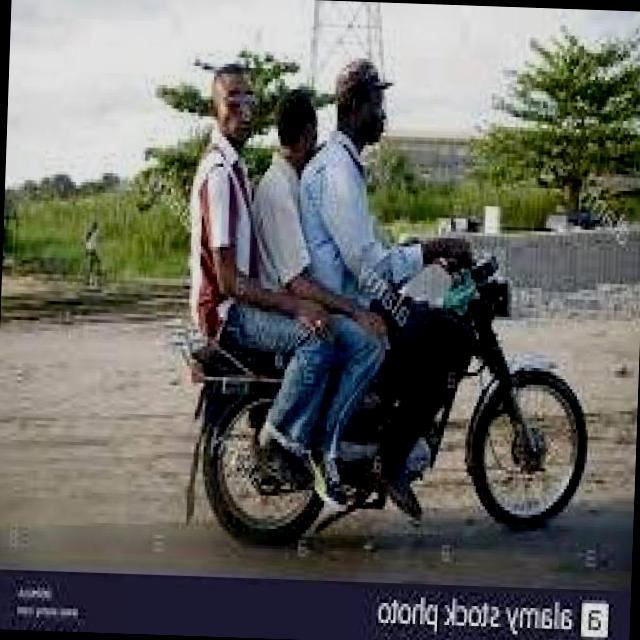motorcycle: (162, 236, 600, 563)
person: (302, 49, 443, 376), (176, 57, 288, 373), (247, 73, 328, 352)
rider_region: (167, 47, 606, 555)
